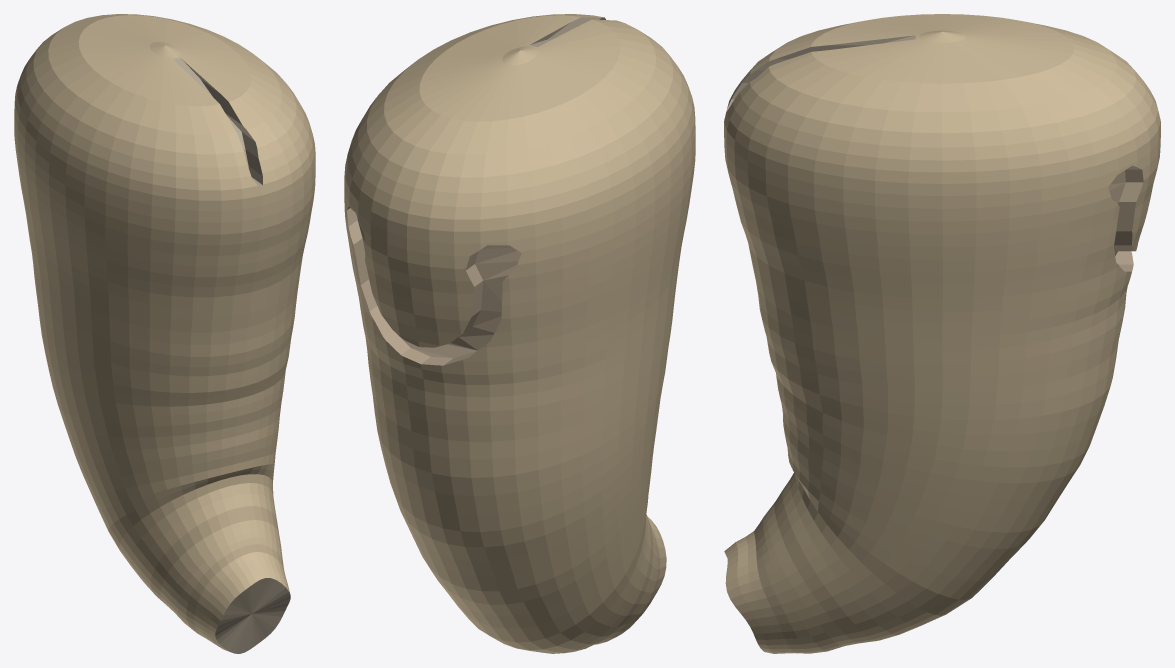
Rendered from phragmoceras.glb.
3 views of the same model, side by side, from view 1: azimuth 30°, elevation 25°; view 2: azimuth 150°, elevation 25°; view 3: azimuth 270°, elevation 25° (orthographic). The views are drawn at different scales.
Parts seen in each view (by area): view 1: Preserved compressed cyrtocone; view 2: Preserved compressed cyrtocone; view 3: Preserved compressed cyrtocone.
Part boxes in pixels (bbox=[...]): Preserved compressed cyrtocone: bbox=[14, 14, 315, 653]; Preserved compressed cyrtocone: bbox=[344, 14, 695, 653]; Preserved compressed cyrtocone: bbox=[724, 14, 1160, 653].
Size of the model in its own units: 0.019 by 0.0431 by 0.0275.
